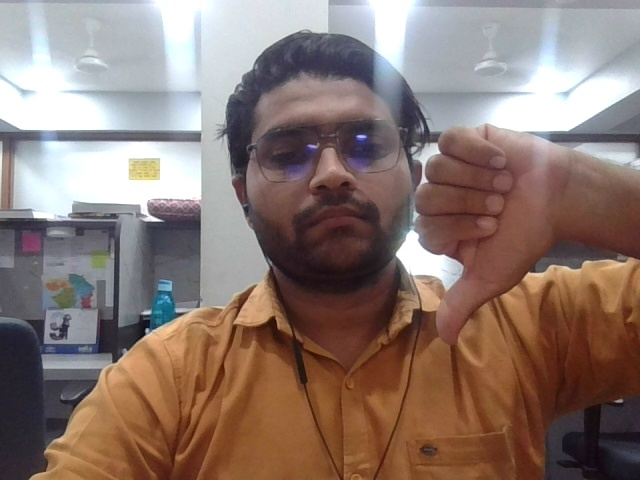ThumbsDown: (412, 125, 581, 349)
